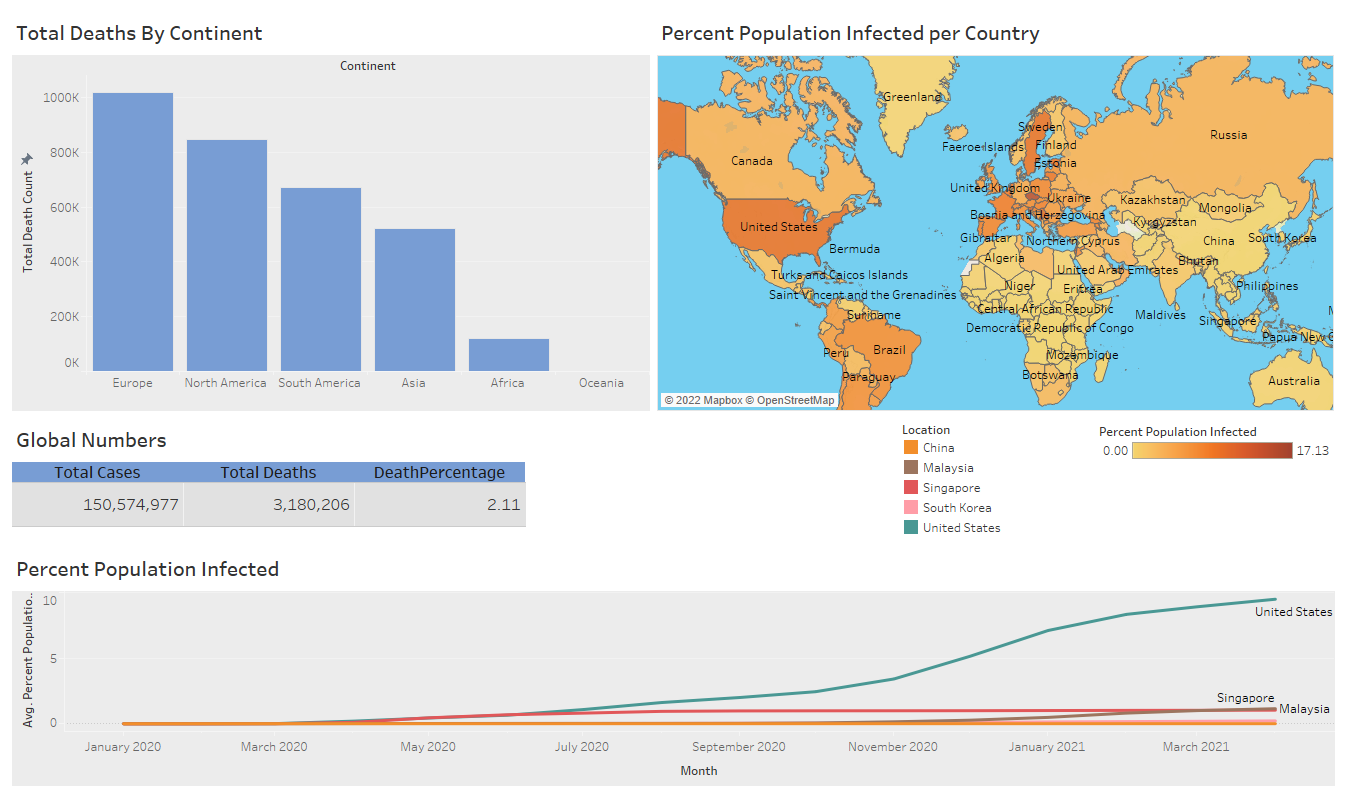

What the dashboard file says about the page in this screenshot:
{"tool":"tableau","page":{"name":"Dashboard 1","canvas":[1000,1000],"units":"permille","ordinal":0},"visuals":[{"type":"worksheet","title":"Sheet 2","mark":"Bar","rows":["TotalDeathCount"],"cols":["location"],"box":[5.9,10,479.2,510]},{"type":"worksheet","title":"Sheet 3","mark":"Automatic","box":[485.1,10,508.9,510]},{"type":"worksheet","title":"Sheet 1","mark":"Automatic","box":[5.9,520,660.5,161.7]},{"type":"legend","title":"Sheet 4","param":"[federated.0mpvzrf1jwkxzy1cgy5y009orh60].[none:Location:nk]","box":[666.4,520,147.1,161.7]},{"type":"legend","title":"Sheet 3","param":"[federated.0tem31q1u98w1g1437dcf189115h].[sum:PercentPopulationInfected:qk]","box":[813.5,520,180.5,161.7]},{"type":"worksheet","title":"Sheet 4","mark":"Automatic","rows":["PercentPopulationInfected"],"cols":["date"],"box":[5.9,681.7,988.1,308.3]}]}

Visuals, with their boxes on the dashboard's canvas, which has no fixed pixel size, in thousandths of its width and height (x1, y1, x2, y2). These are canvas units, not pixel positions in the 1346x798 screenshot, which may show the page scaled, cropped or inside an application window:
"Sheet 2" worksheet (Bar marks): x1=6, y1=10, x2=485, y2=520
"Sheet 3" worksheet: x1=485, y1=10, x2=994, y2=520
"Sheet 1" worksheet: x1=6, y1=520, x2=666, y2=682
"Sheet 4" legend: x1=666, y1=520, x2=814, y2=682
"Sheet 3" legend: x1=814, y1=520, x2=994, y2=682
"Sheet 4" worksheet: x1=6, y1=682, x2=994, y2=990
